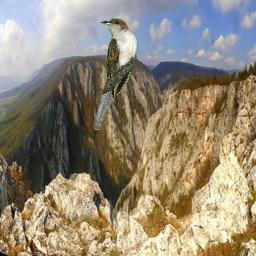Cuckoo: (93, 18, 138, 130)
